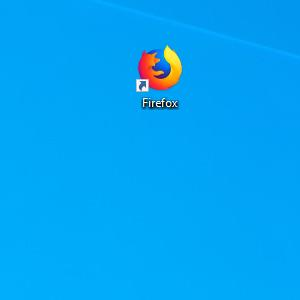firefox: (136, 44, 183, 92)
